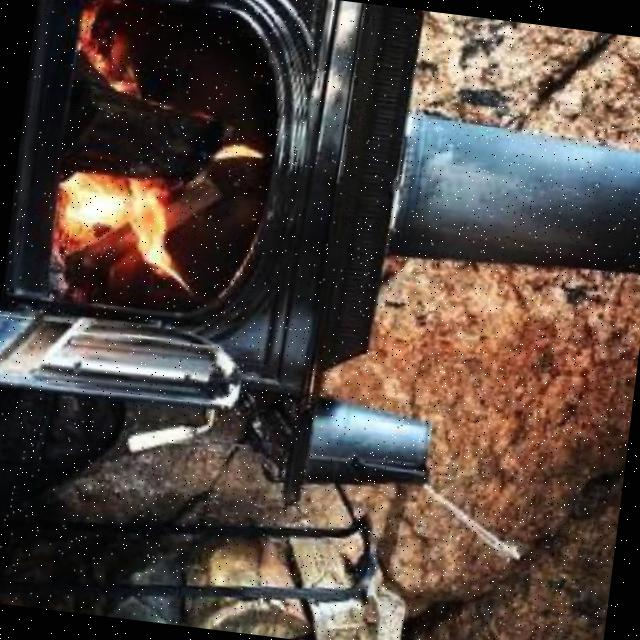fire: (40, 153, 259, 319), (55, 0, 169, 115)
